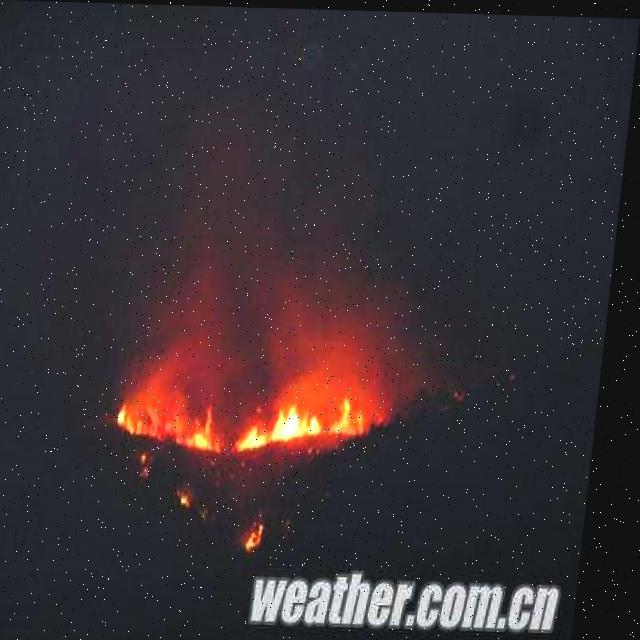Fire: (122, 361, 388, 453), (252, 508, 278, 550), (146, 450, 162, 478), (188, 482, 202, 509)
